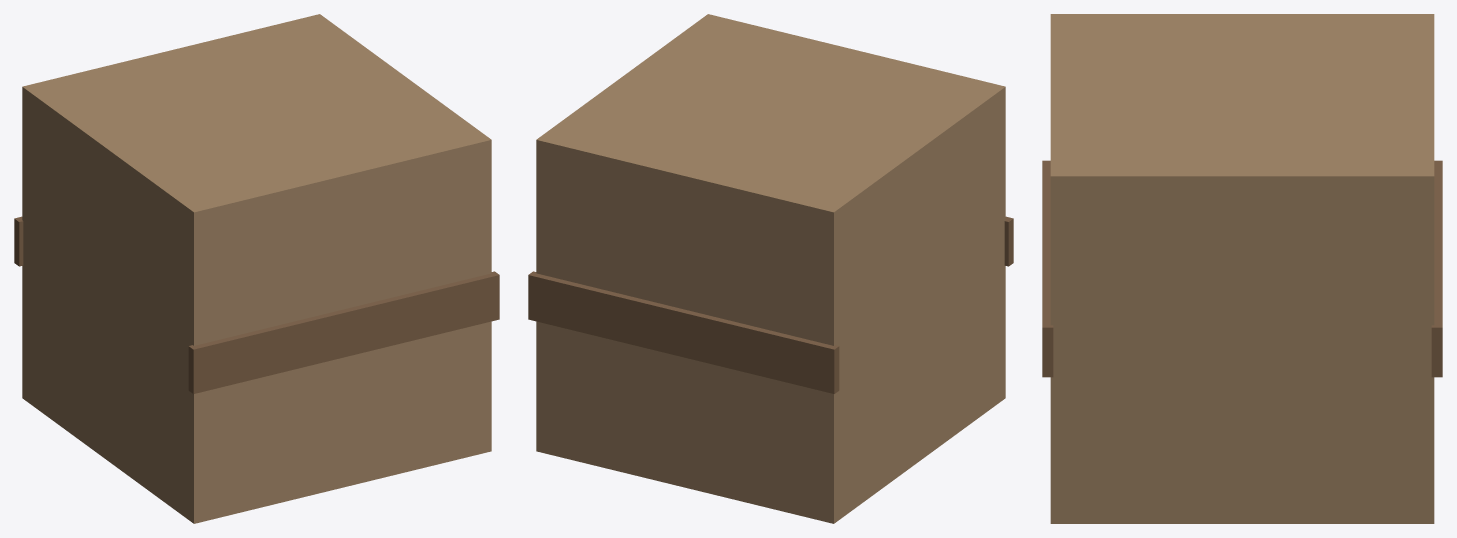
Rendered from Crate.fbx.
The picture shows the model from 3 angles, left to right: view 1: azimuth 30°, elevation 25°; view 2: azimuth 150°, elevation 25°; view 3: azimuth 270°, elevation 25°; orthographic projection. The views are drawn at different scales.
Parts seen in each view (by area): view 1: Crate; view 2: Crate; view 3: Crate.
Boxes of the visible parts, box(x1,y1,x2,y2) form: Crate: box(14, 14, 499, 523); Crate: box(528, 14, 1013, 523); Crate: box(1042, 14, 1442, 523).
Size of the model in its own units: 0.72 by 0.73 by 0.7.
